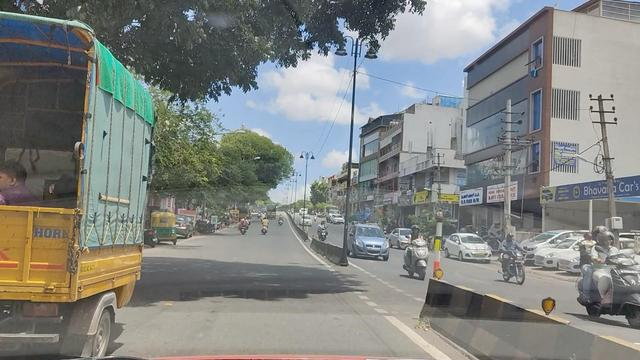HMV: (2, 9, 138, 354)
